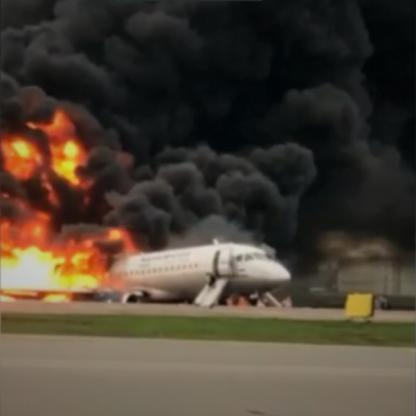CIV_Plane: (72, 235, 296, 314)
